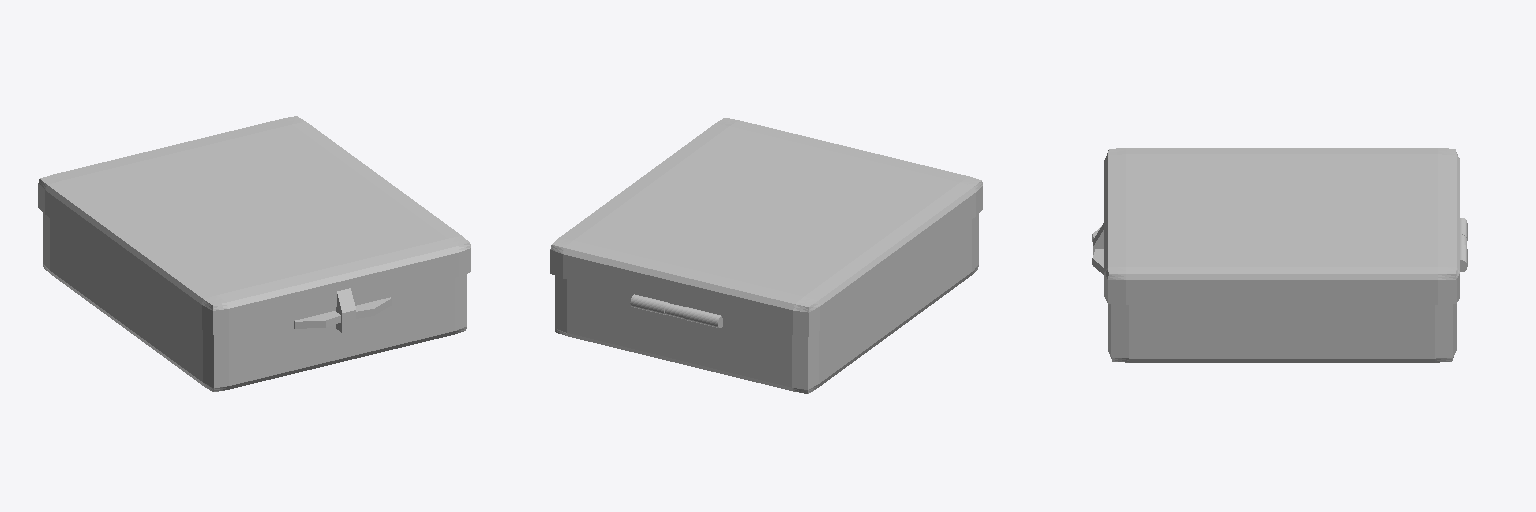
The model's file is rifle-ammo-pack.obj.
3 renders of one model, left to right at view 1: azimuth 30°, elevation 25°; view 2: azimuth 150°, elevation 25°; view 3: azimuth 270°, elevation 25°, orthographic.
Parts seen in each view (by area): view 1: основа_винтовочной_пачки.002_Куб.027; view 2: основа_винтовочной_пачки.002_Куб.027; view 3: основа_винтовочной_пачки.002_Куб.027.
Boxes of the visible parts, x1=… form: основа_винтовочной_пачки.002_Куб.027: x1=38, y1=116, x2=470, y2=391; основа_винтовочной_пачки.002_Куб.027: x1=550, y1=118, x2=982, y2=393; основа_винтовочной_пачки.002_Куб.027: x1=1092, y1=148, x2=1467, y2=362.
Size of the model in its own units: 0.4895 by 0.1617 by 0.6053.